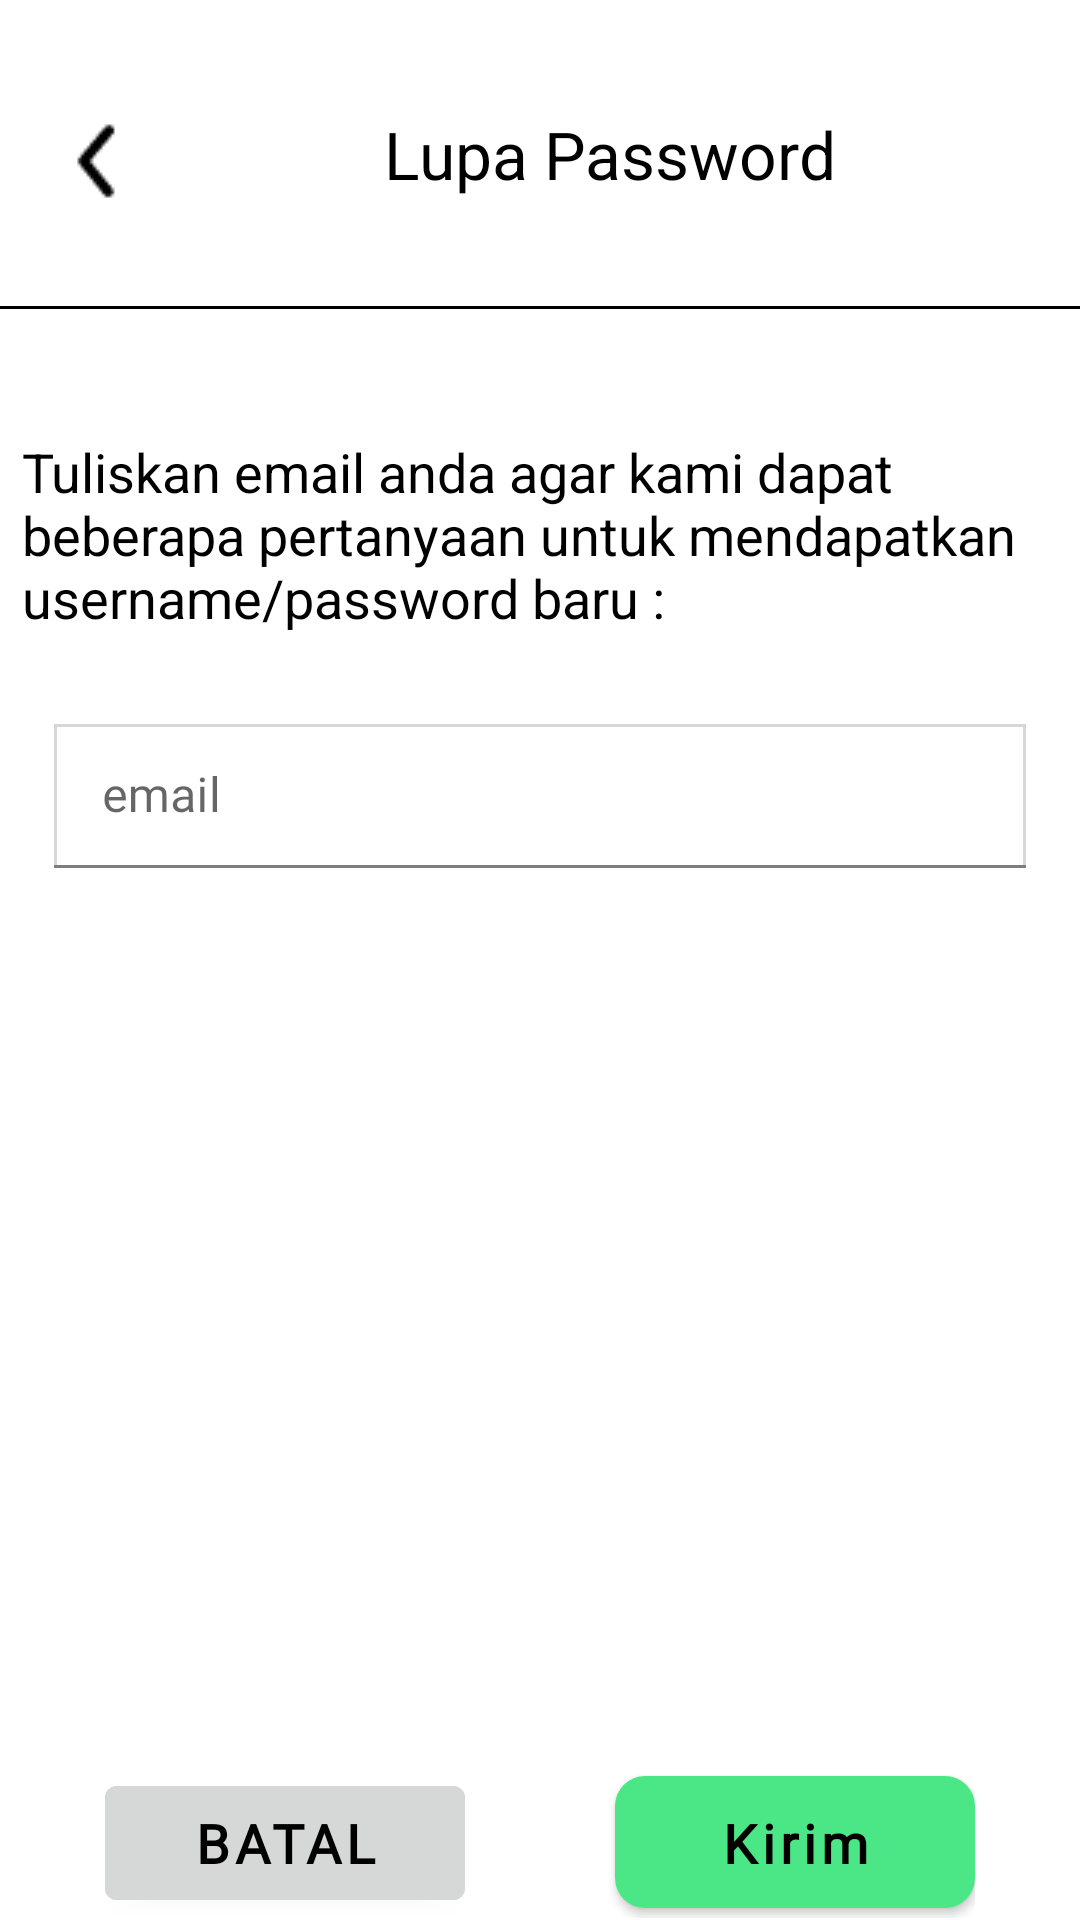

Icon bounding boxes for this 1080*1920 phone screenshot, format (x1, y1, x2, y2):
backbt: (77, 124, 115, 198)
